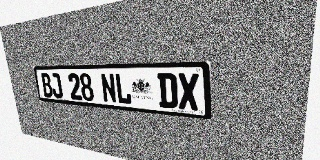2: (67, 73, 82, 100)
8: (79, 73, 94, 101)
B: (40, 73, 53, 98)
D: (157, 73, 178, 109)
J: (50, 73, 63, 99)
L: (114, 73, 132, 105)
N: (100, 73, 117, 103)
X: (177, 73, 199, 111)
